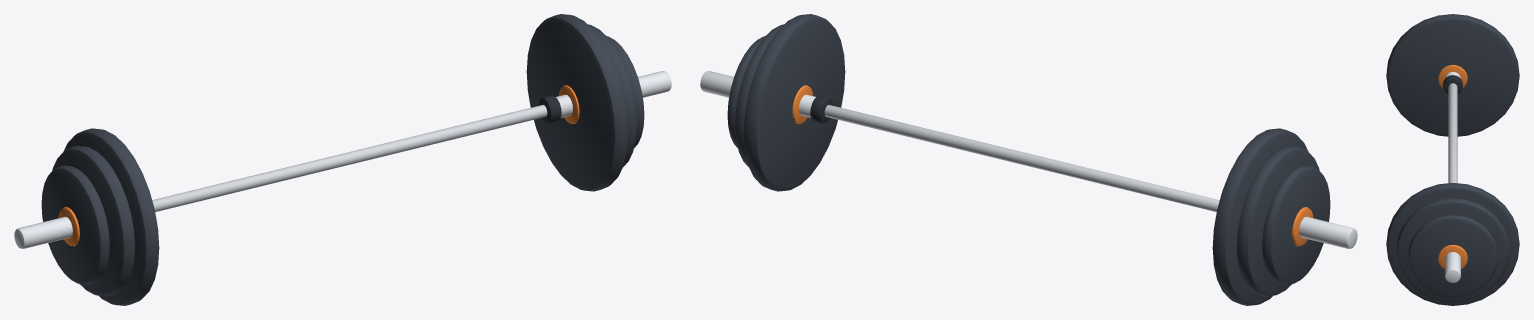
Rendered from barra_anilhas.glb.
3 renders of one model, left to right at view 1: azimuth 30°, elevation 25°; view 2: azimuth 150°, elevation 25°; view 3: azimuth 270°, elevation 25°, orthographic. The views are drawn at different scales.
Parts seen in each view (by area): view 1: barra_anilhas; view 2: barra_anilhas; view 3: barra_anilhas.
Boxes of the visible parts, left/top/right/bottom form: barra_anilhas: left=14, top=14, right=671, bottom=305; barra_anilhas: left=700, top=14, right=1357, bottom=305; barra_anilhas: left=1386, top=14, right=1519, bottom=305.
Size of the model in its own units: 1.66 by 0.4 by 0.4.
Materials: 1 (1 with a texture image).
